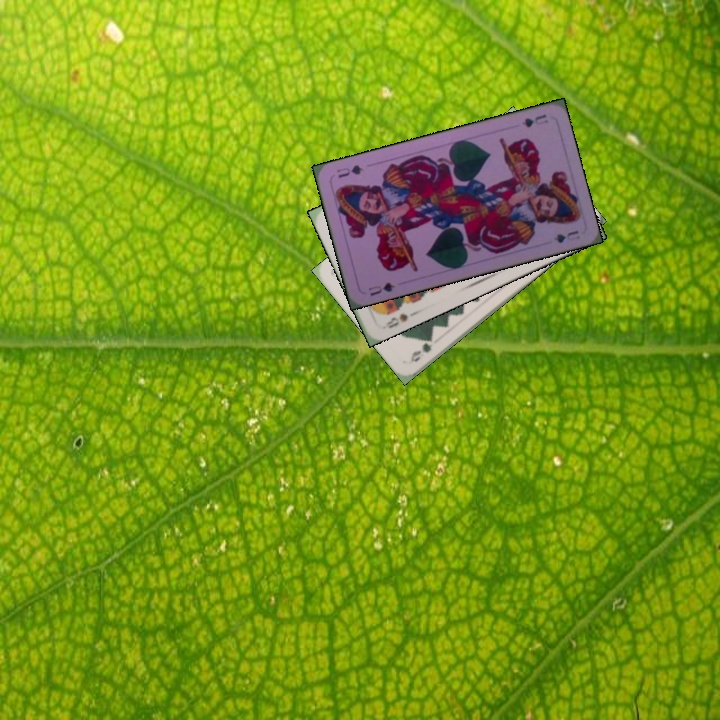G9: (406, 333, 435, 365)
GU: (365, 278, 397, 299), (518, 110, 551, 130)
S8: (381, 309, 411, 331)
